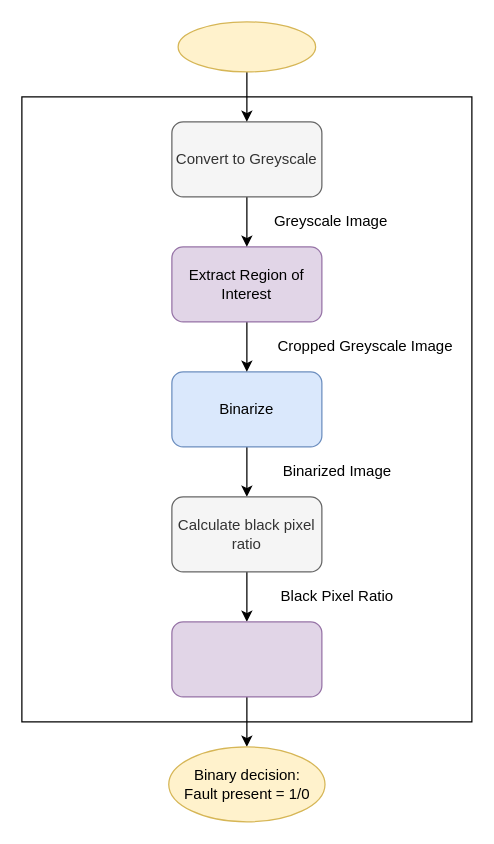
Image size: 494x844. Some labels were removed from this diagram. Here are the shapes that lost their labels. From the top down, the centre of each, then its label:
At [246,46]: "Image".
At [246,659]: "Compare ratio to threshold".
